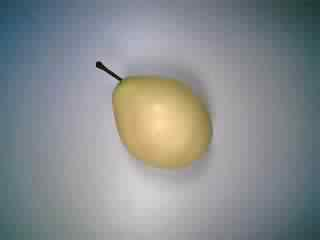pear: (81, 50, 220, 175)
